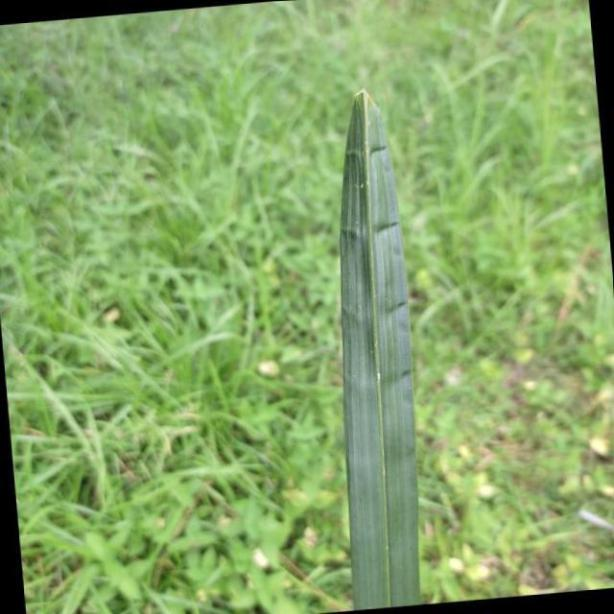Boron: (336, 88, 419, 614)
